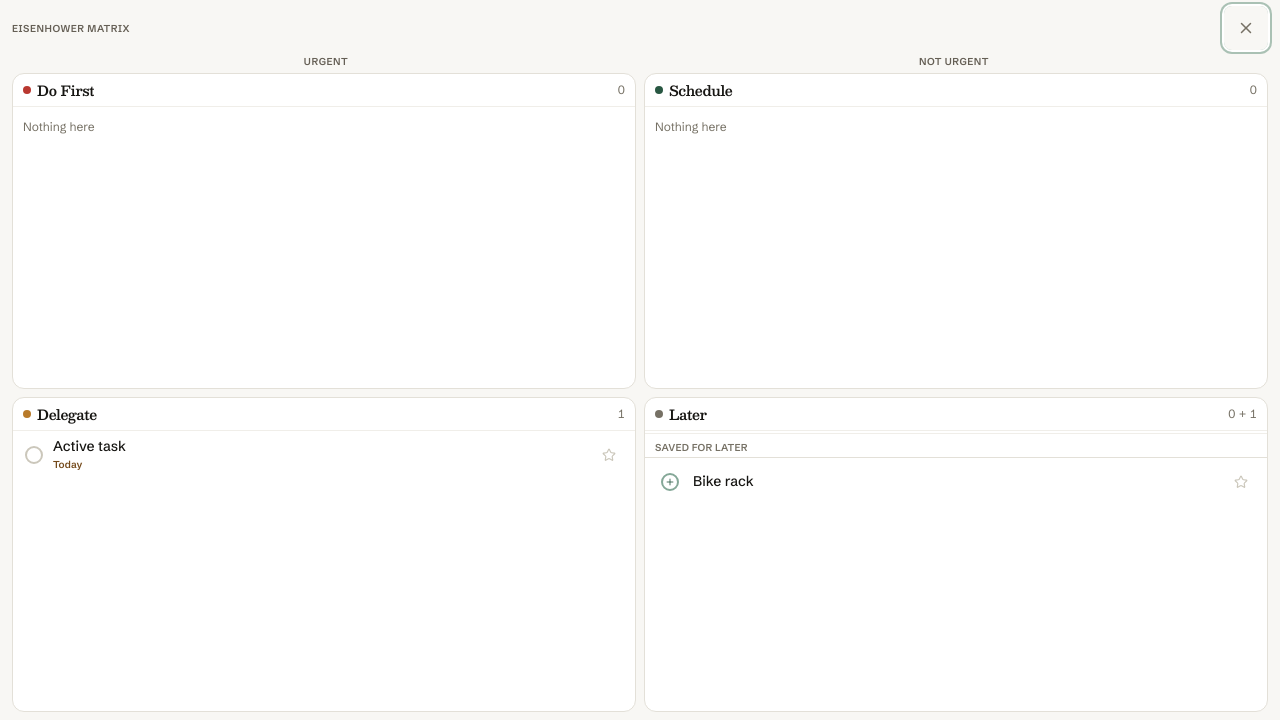
Scenario: ToDosPage — Saved for later section › parked-row affordances › the edit drawer › still allows editing the fields that DO apply while parked
Click the button with aria-label "Edit task: Bike rack" at (723,481), box [693, 472, 1217, 491]
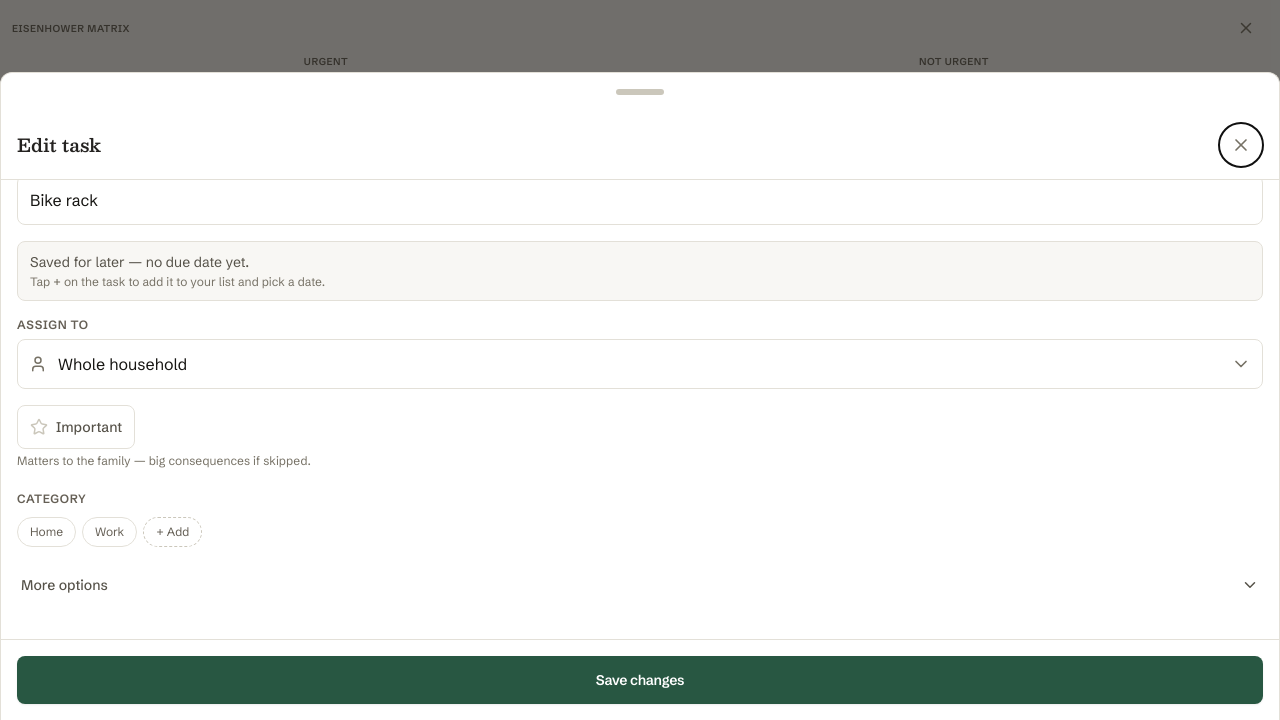
expect the field labelled "Task" is shown: met, box [17, 180, 1263, 225]
expect the dropdown labelled "Assign to" is shown: met, box [17, 339, 1263, 389]
expect the button "Important" is shown: met, box [17, 405, 135, 449]
